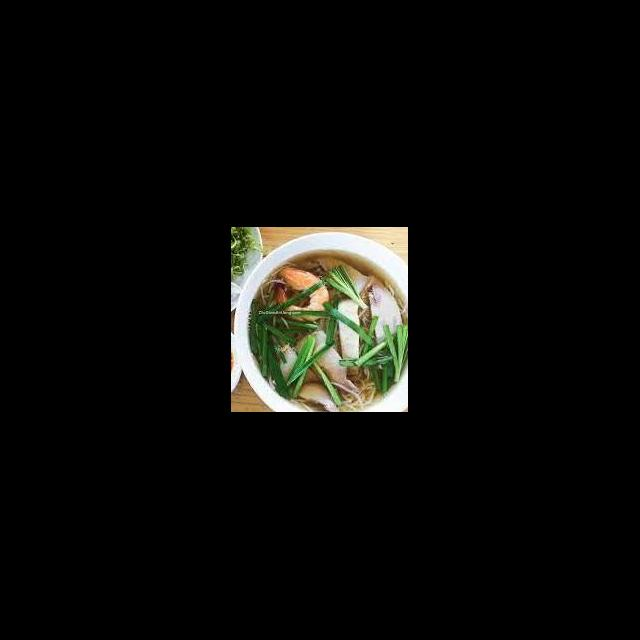thit heo quay: (294, 328, 362, 400), (334, 296, 364, 380)
tom: (274, 264, 332, 324)
